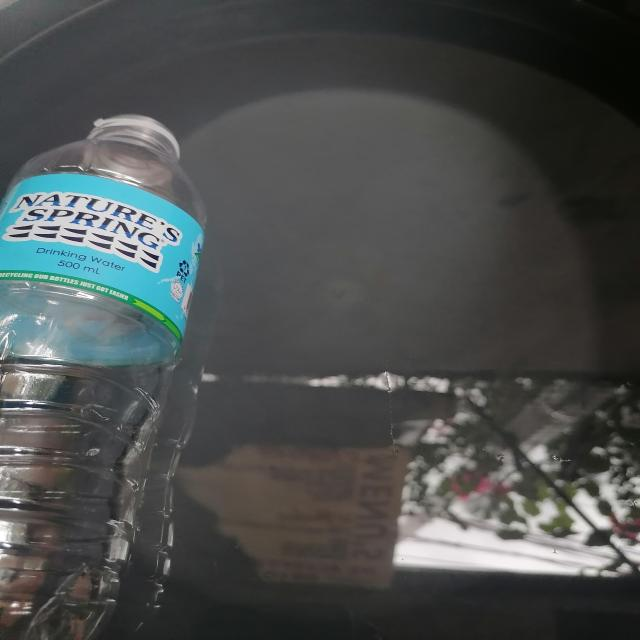Plastic Bottle: (0, 89, 239, 640)
